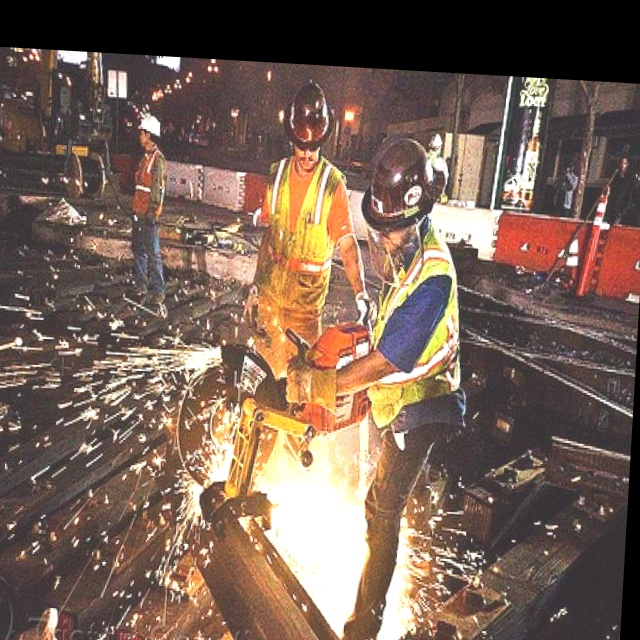Con_Casco: (286, 78, 337, 152)
Con_Chaleco: (258, 151, 343, 311)
